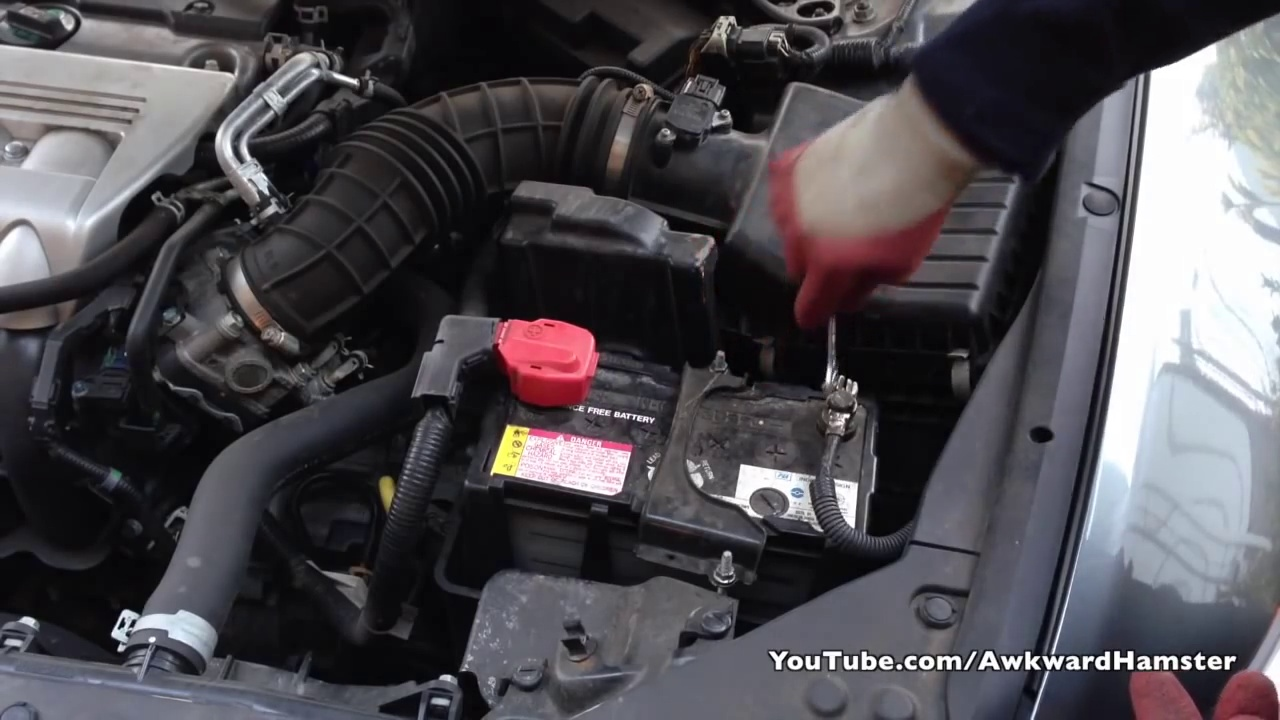battery: (471, 352, 881, 550)
neg_connected: (799, 362, 871, 492)
pos_connected: (410, 283, 616, 425)
